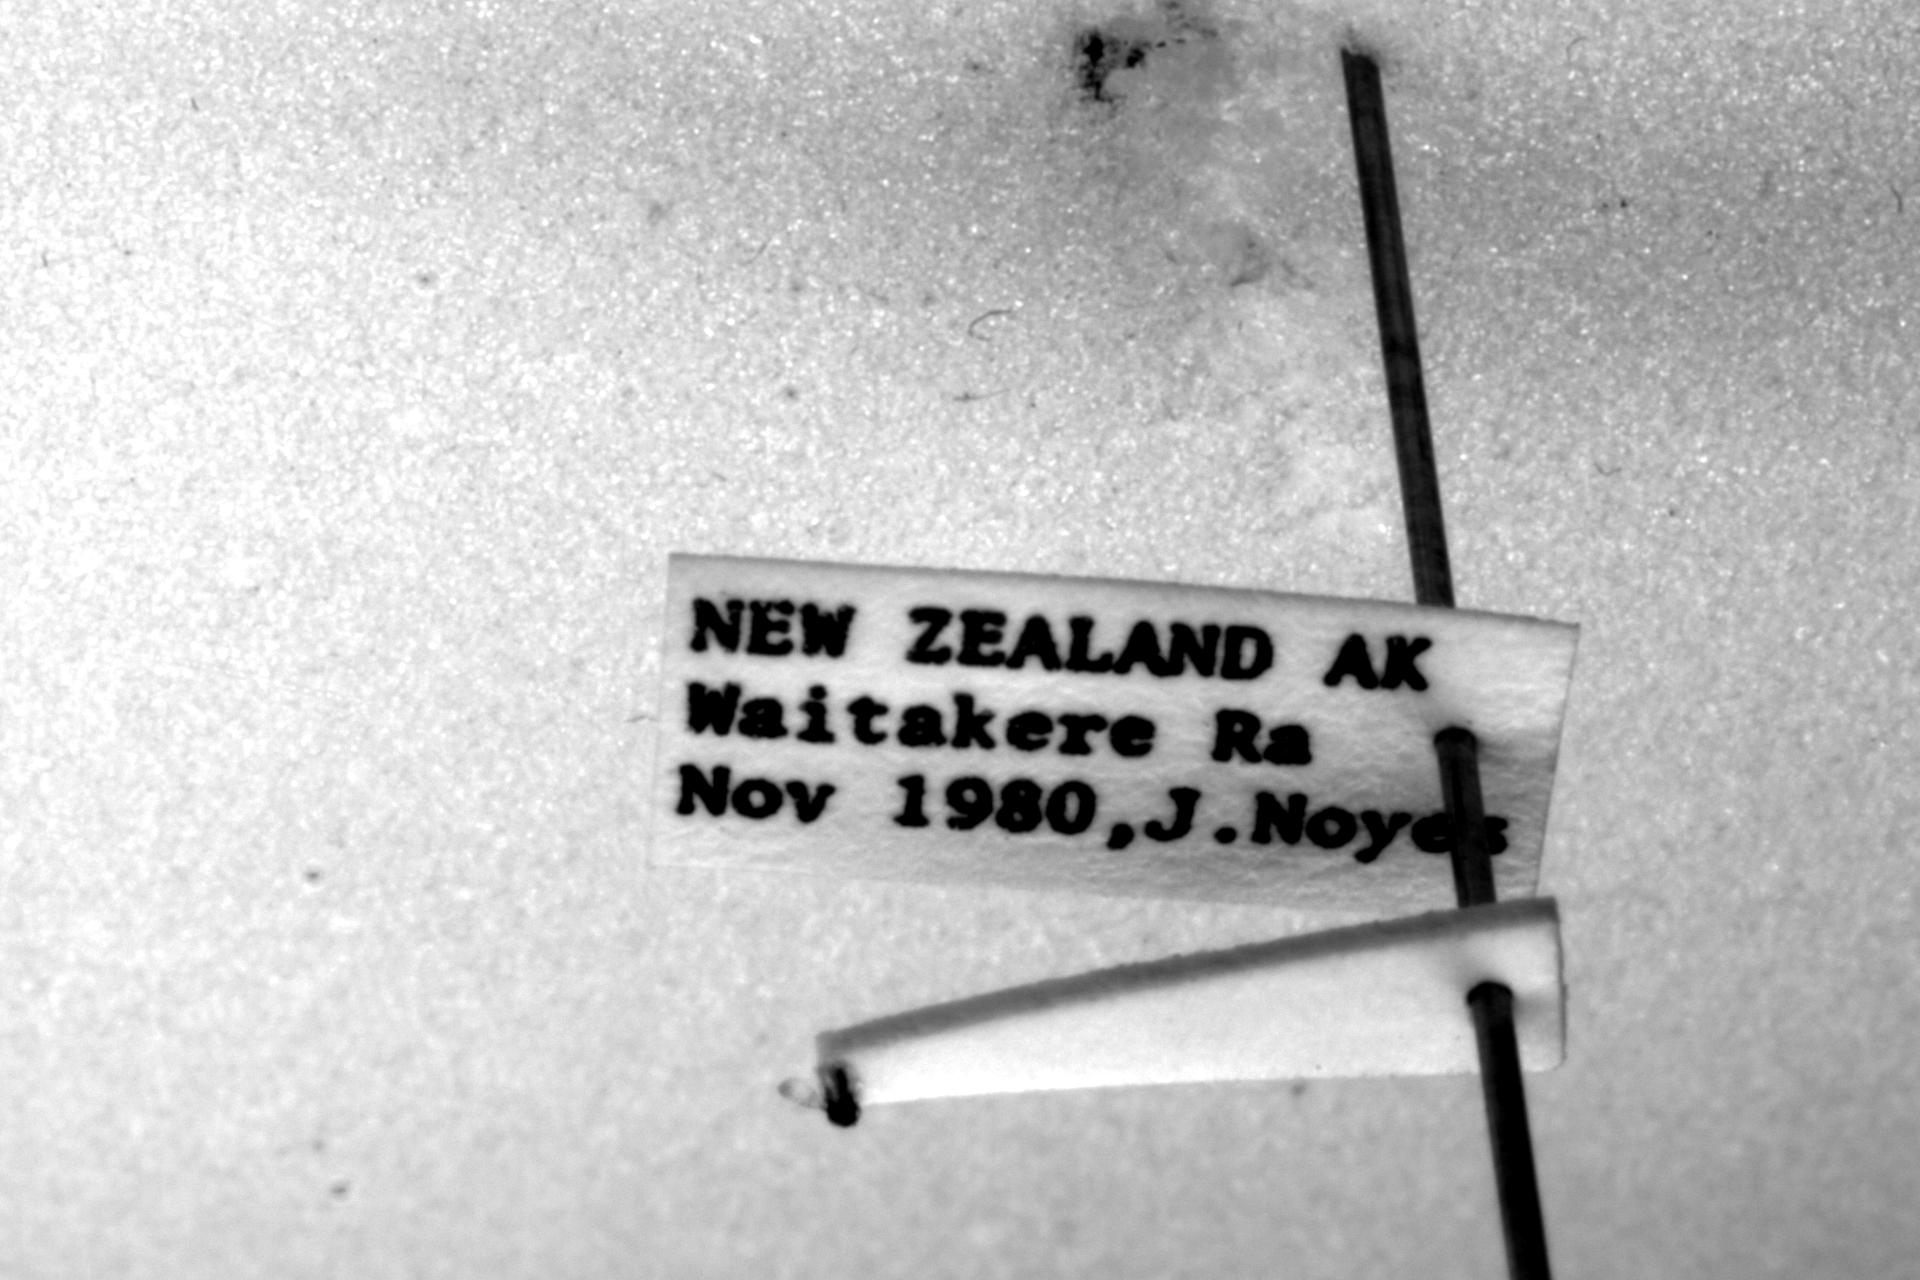typed_label: (649, 554, 1579, 914)
